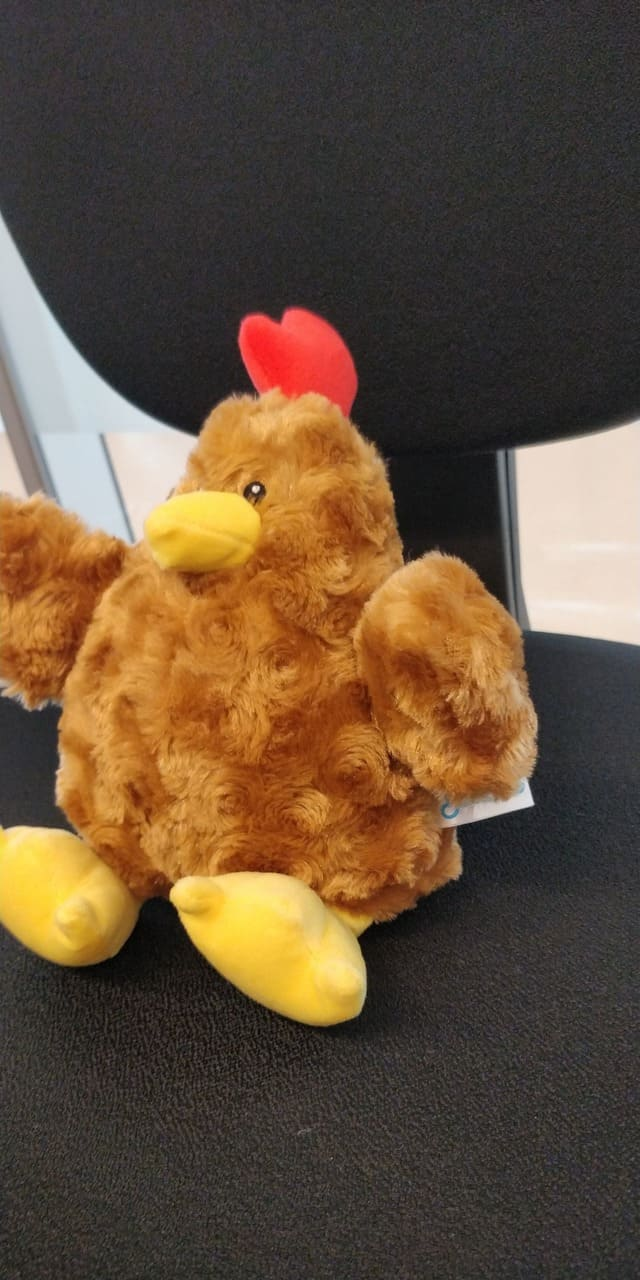fakeChicken: (1, 296, 540, 1031)
